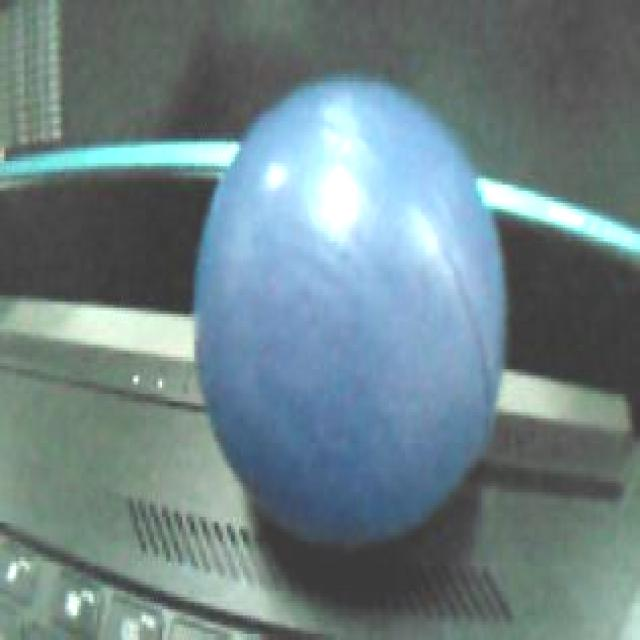BallPurple: (195, 76, 505, 542)
